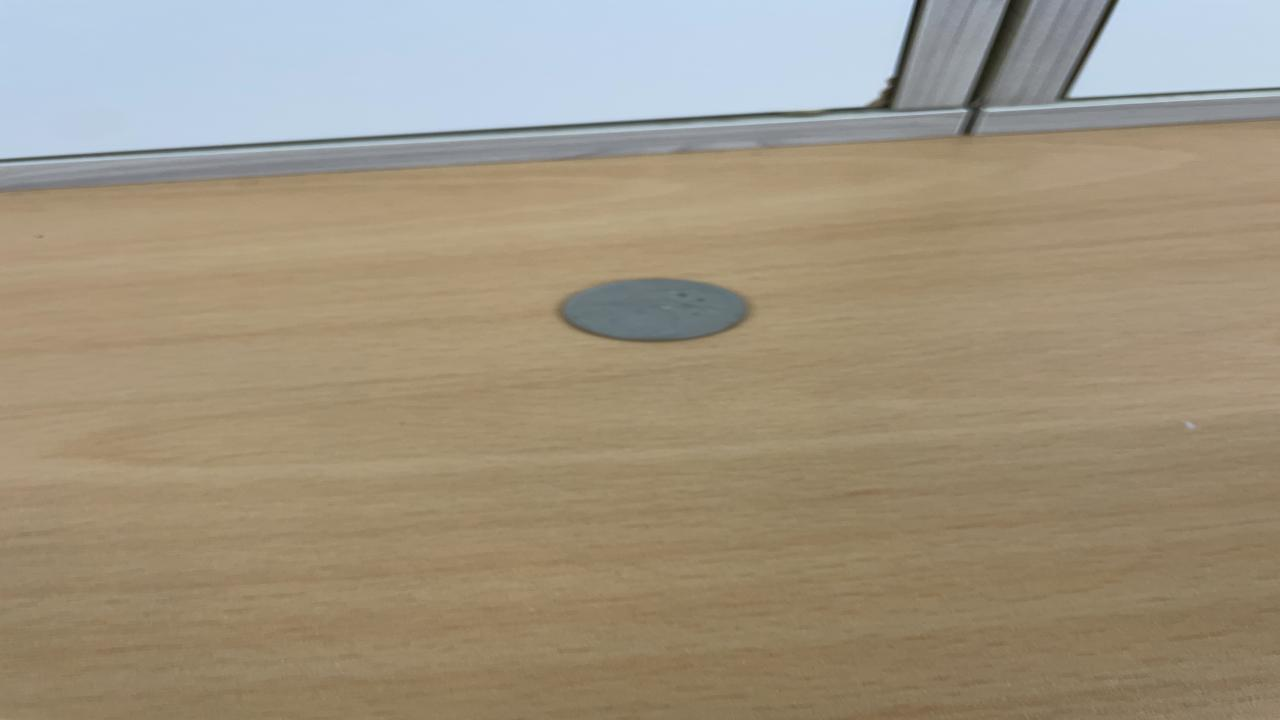coin: (553, 275, 759, 345)
